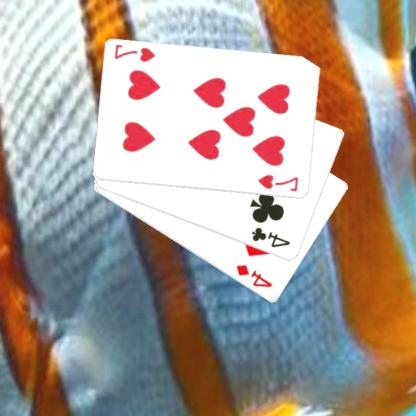4C: (250, 225, 294, 249)
4D: (235, 262, 275, 289)
7H: (113, 42, 158, 64), (256, 172, 301, 193)
